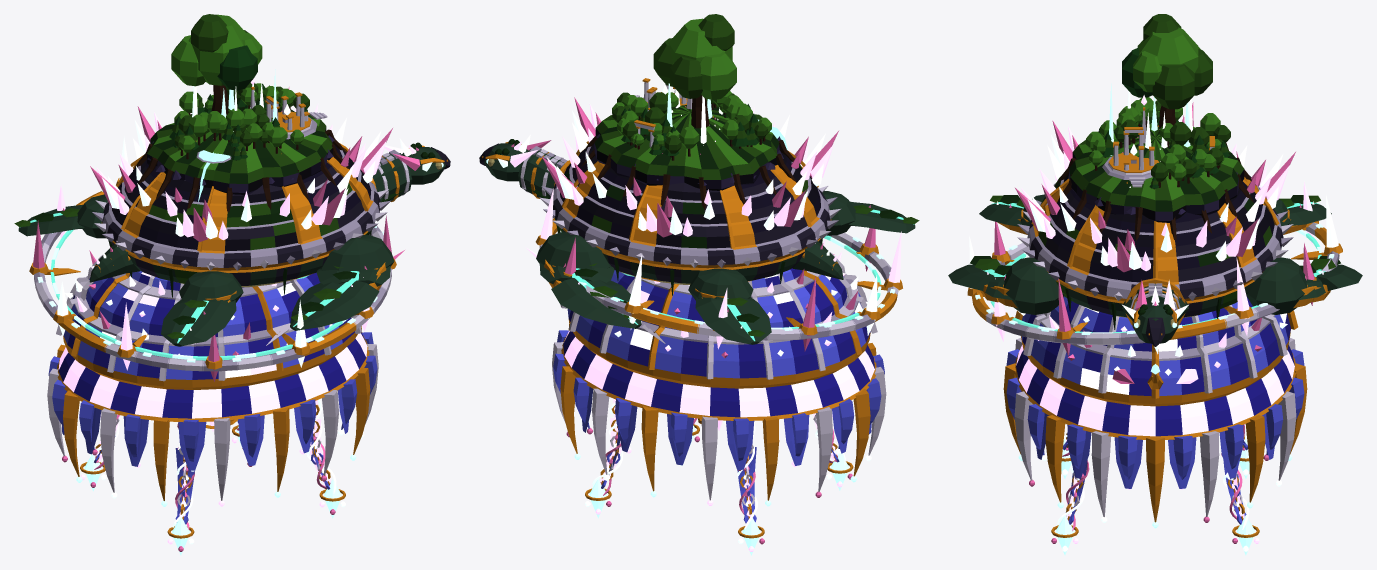
Rendered from creatures_colossal.fbx.
3 views of the same model, side by side, from view 1: azimuth 30°, elevation 25°; view 2: azimuth 150°, elevation 25°; view 3: azimuth 270°, elevation 25° (orthographic). The views are drawn at different scales.
Visible parts, largest first — view 1: hubprop_starweaver__skirt_1, hubprop_elder_greatturtle__isle_1, hubprop_elder_greatturtle__shell_1, hubprop_starweaver, hubprop_starweaver__halo_1, hubprop_elder_greatturtle, hubprop_elder_greatturtle__crystals_1, hubprop_elder_greatturtle__flippertip_2, hubprop_elder_greatturtle__hindflipper_2, hubprop_elder_greatturtle__head_1, hubprop_starweaver__tendriltip_3, hubprop_elder_greatturtle__neck_1 (+4 smaller); view 2: hubprop_starweaver__skirt_1, hubprop_elder_greatturtle__isle_1, hubprop_starweaver, hubprop_elder_greatturtle__shell_1, hubprop_elder_greatturtle, hubprop_starweaver__halo_1, hubprop_elder_greatturtle__crystals_1, hubprop_elder_greatturtle__flippertip_1, hubprop_elder_greatturtle__hindflipper_1, hubprop_elder_greatturtle__head_1, hubprop_starweaver__tendriltip_2, hubprop_elder_greatturtle__neck_1 (+4 smaller); view 3: hubprop_starweaver__skirt_1, hubprop_elder_greatturtle__isle_1, hubprop_starweaver, hubprop_elder_greatturtle__shell_1, hubprop_starweaver__halo_1, hubprop_elder_greatturtle__crystals_1, hubprop_elder_greatturtle, hubprop_elder_greatturtle__head_1, hubprop_starweaver__tendriltip_4, hubprop_starweaver__tendriltip_1, hubprop_elder_greatturtle__flippertip_2, hubprop_elder_greatturtle__flippertip_1 (+5 smaller).
Boxes of the visible parts, <box> form: hubprop_starweaver__skirt_1: <box>47,326,378,506</box>; hubprop_elder_greatturtle__isle_1: <box>133,14,349,212</box>; hubprop_elder_greatturtle__shell_1: <box>92,143,390,270</box>; hubprop_starweaver: <box>56,231,404,389</box>; hubprop_starweaver__halo_1: <box>29,136,396,381</box>; hubprop_elder_greatturtle: <box>77,178,394,302</box>; hubprop_elder_greatturtle__crystals_1: <box>90,69,392,241</box>; hubprop_elder_greatturtle__flippertip_2: <box>266,273,381,345</box>; hubprop_elder_greatturtle__hindflipper_2: <box>161,299,236,346</box>; hubprop_elder_greatturtle__head_1: <box>384,138,450,184</box>; hubprop_starweaver__tendriltip_3: <box>167,447,194,555</box>; hubprop_elder_greatturtle__neck_1: <box>372,150,412,202</box>; hubprop_starweaver__skirt_1: <box>552,324,886,506</box>; hubprop_elder_greatturtle__isle_1: <box>581,14,796,209</box>; hubprop_starweaver: <box>525,225,877,388</box>; hubprop_elder_greatturtle__shell_1: <box>539,141,841,268</box>; hubprop_elder_greatturtle: <box>536,160,855,300</box>; hubprop_starweaver__halo_1: <box>535,188,902,351</box>; hubprop_elder_greatturtle__crystals_1: <box>542,83,838,237</box>; hubprop_elder_greatturtle__flippertip_1: <box>549,270,665,343</box>; hubprop_elder_greatturtle__hindflipper_1: <box>695,297,771,344</box>; hubprop_elder_greatturtle__head_1: <box>479,134,551,181</box>; hubprop_starweaver__tendriltip_2: <box>737,444,764,555</box>; hubprop_elder_greatturtle__neck_1: <box>518,146,567,198</box>; hubprop_starweaver__skirt_1: <box>1003,338,1307,528</box>; hubprop_elder_greatturtle__isle_1: <box>1057,14,1253,240</box>; hubprop_starweaver: <box>1015,296,1298,406</box>; hubprop_elder_greatturtle__shell_1: <box>1017,174,1293,301</box>; hubprop_starweaver__halo_1: <box>967,151,1342,356</box>; hubprop_elder_greatturtle__crystals_1: <box>1015,83,1295,272</box>; hubprop_elder_greatturtle: <box>1003,194,1307,329</box>; hubprop_elder_greatturtle__head_1: <box>1122,280,1188,346</box>; hubprop_starweaver__tendriltip_4: <box>1051,460,1089,555</box>; hubprop_starweaver__tendriltip_1: <box>1221,453,1259,555</box>; hubprop_elder_greatturtle__flippertip_2: <box>948,256,1004,302</box>; hubprop_elder_greatturtle__flippertip_1: <box>1310,256,1362,302</box>.
Bounding box in the file's own units: 828 × 971 × 730.
